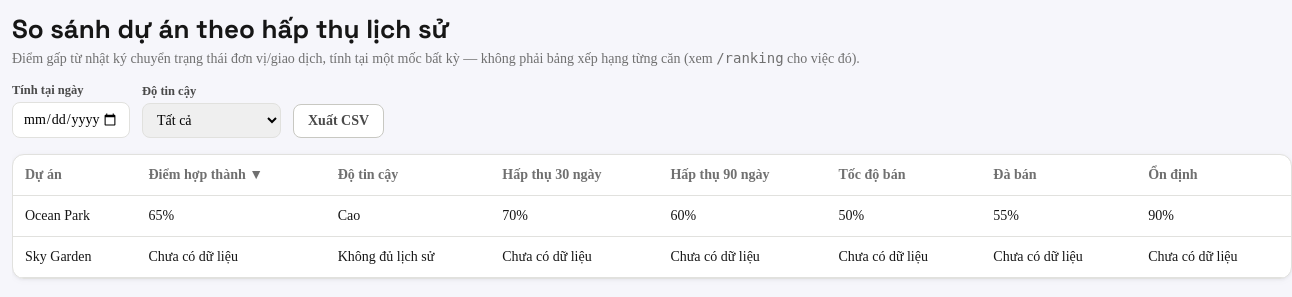
Test case: HistoricalRankingPage › filters the table by confidence level
Check: the text "Ocean Park" is shown, box left=13, top=196, right=136, bottom=236
Check: the text "Sky Garden" is shown, box left=13, top=236, right=136, bottom=278
Select "Cao" in the dropdown labelled "Độ tin cậy" at (212, 120), box left=142, top=103, right=281, bottom=138
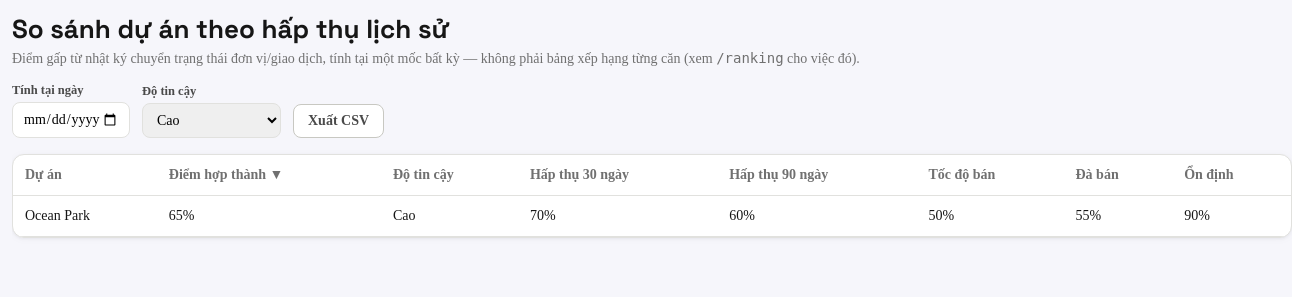
Check: the text "Ocean Park" is shown, box left=13, top=196, right=157, bottom=236
Check: the text "Sky Garden" is gone
